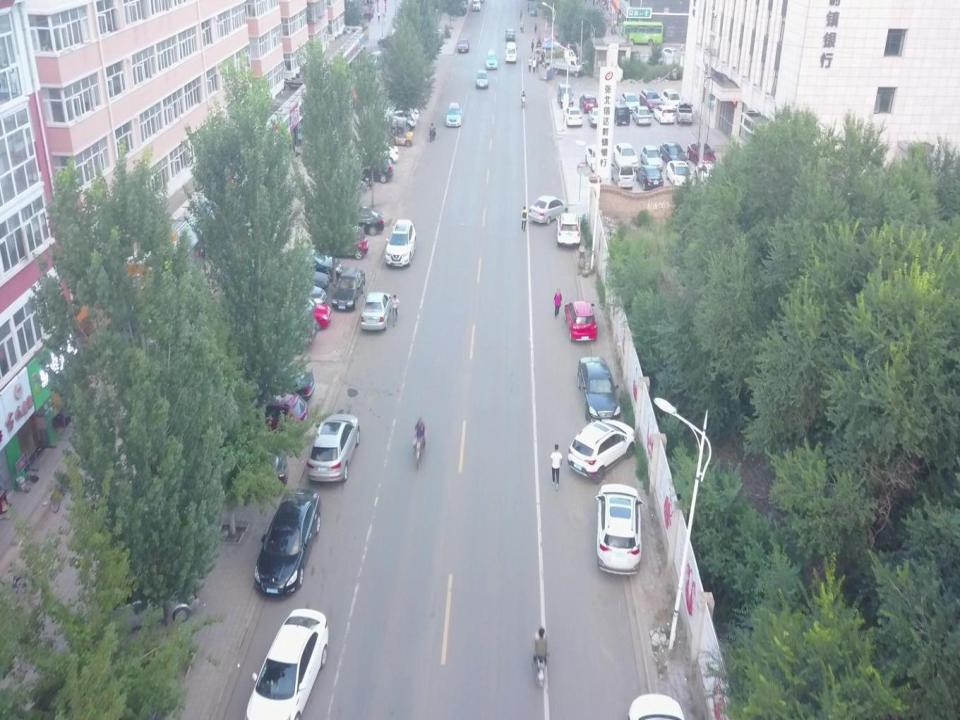bus: (618, 21, 664, 47)
car: (245, 608, 328, 720), (255, 488, 321, 596), (97, 571, 200, 631), (567, 416, 637, 482), (595, 483, 645, 575), (228, 388, 308, 440), (205, 448, 288, 494), (307, 412, 361, 482), (236, 365, 316, 405), (577, 356, 619, 424), (267, 307, 317, 345), (278, 296, 331, 328), (320, 225, 369, 259), (288, 250, 342, 280), (385, 219, 416, 268), (332, 267, 365, 311), (564, 300, 598, 342), (335, 206, 384, 235), (280, 283, 327, 310), (349, 140, 399, 165), (346, 160, 394, 184), (361, 292, 391, 330), (529, 196, 568, 225), (282, 269, 329, 289), (556, 212, 582, 246), (659, 142, 689, 170), (687, 142, 716, 170), (378, 102, 418, 122), (694, 164, 725, 188), (666, 160, 692, 188), (380, 111, 416, 131), (612, 142, 637, 170), (636, 166, 663, 191), (585, 144, 605, 173), (641, 145, 663, 170), (640, 88, 662, 112), (660, 89, 682, 110), (652, 104, 675, 124), (609, 104, 630, 125), (620, 91, 640, 111), (632, 106, 652, 126), (446, 102, 462, 126), (588, 106, 606, 127), (558, 84, 574, 107), (564, 106, 582, 126), (659, 47, 681, 63), (579, 94, 598, 112), (377, 35, 402, 47), (447, 2, 468, 16), (475, 70, 488, 88), (458, 38, 469, 52), (486, 54, 497, 68), (505, 30, 516, 42), (472, 0, 481, 9)
truck: (544, 45, 578, 66), (549, 57, 584, 77), (676, 100, 693, 123)
van: (611, 159, 634, 189), (367, 50, 385, 70), (505, 41, 517, 63)
